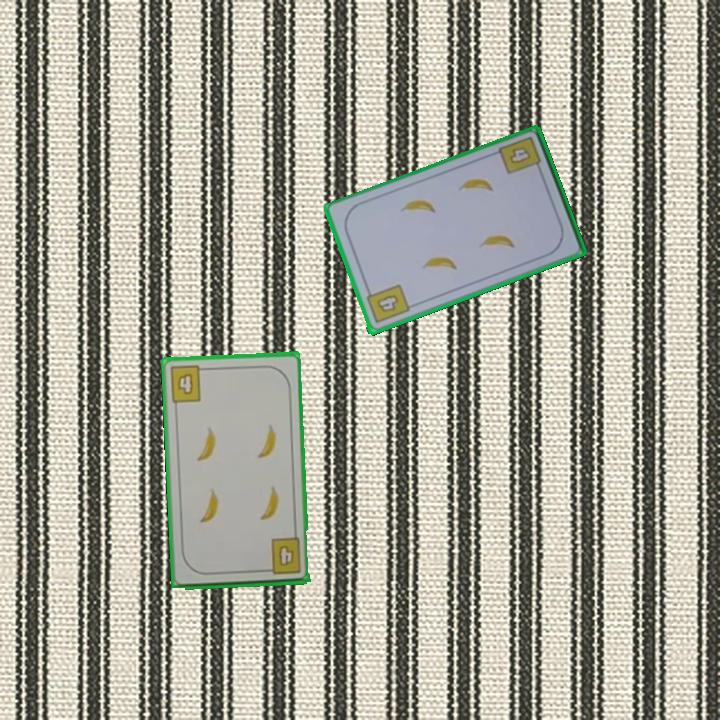4b: (362, 281, 412, 327), (166, 362, 210, 405), (260, 535, 304, 578), (505, 144, 534, 167)
